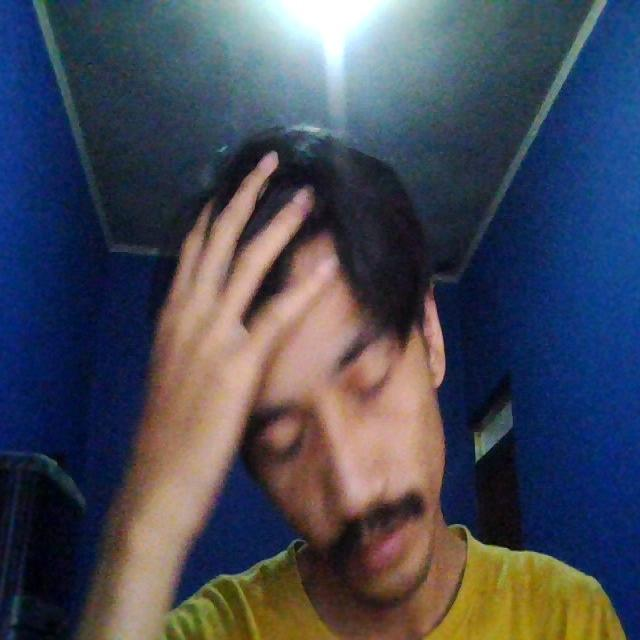movement: (124, 134, 461, 618)
